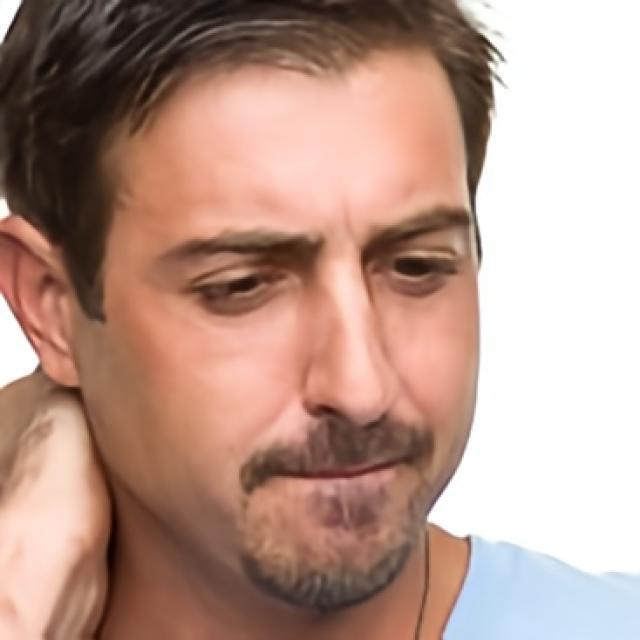sad: (90, 44, 483, 608)
